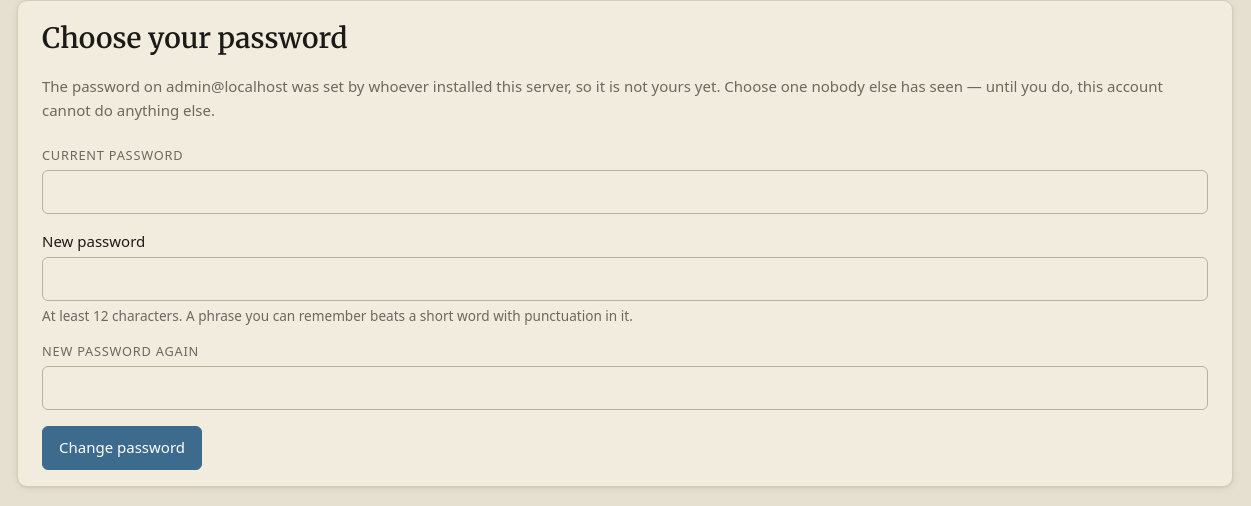
Test: changing it › does not claim to have signed anything out when it did not
This screenshot has width=1251, height=506.
Type "admin" into the password field labelled "Current password".
click(625, 192); type("admin")  # box [42,170,1208,214]
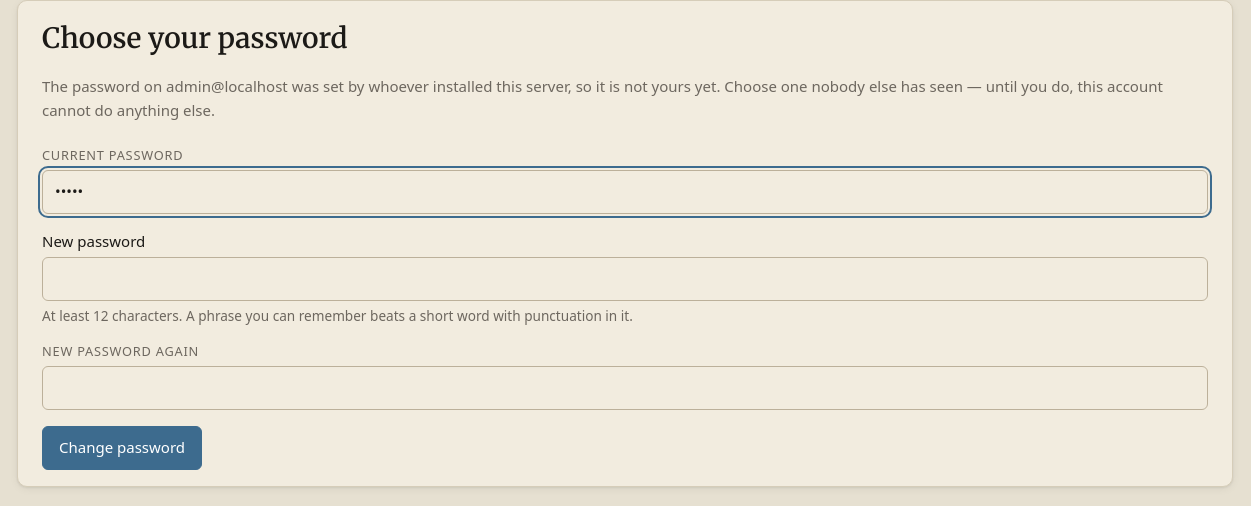
Type "a passphrase nobody else has seen" into the password field labelled "New password".
click(625, 279); type("a passphrase nobody else has seen")  # box [42,257,1208,301]
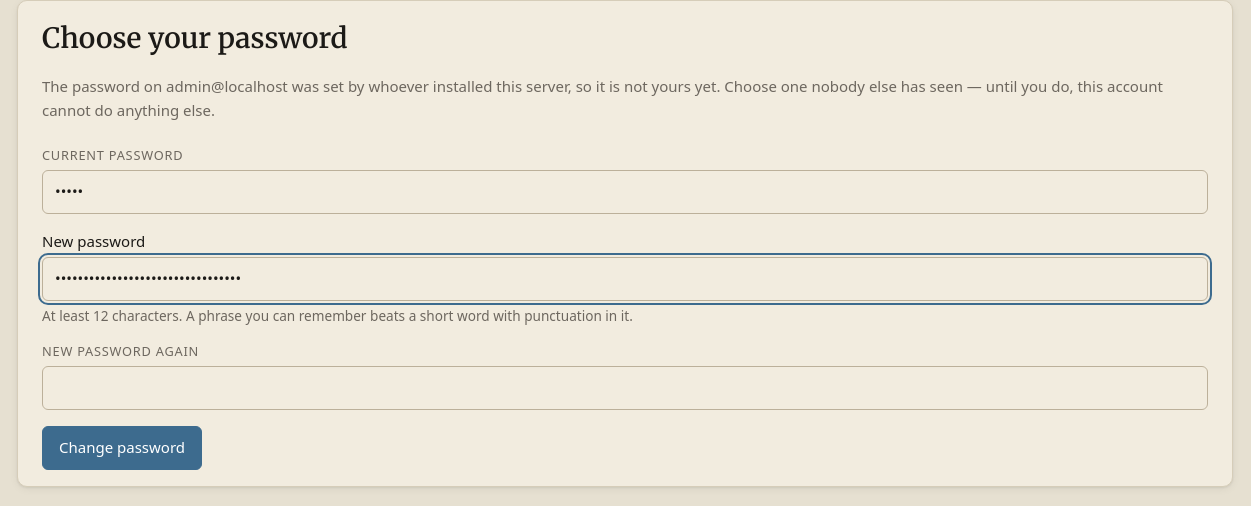
Type "a passphrase nobody else has seen" into the password field labelled "New password again".
click(625, 388); type("a passphrase nobody else has seen")  # box [42,366,1208,410]
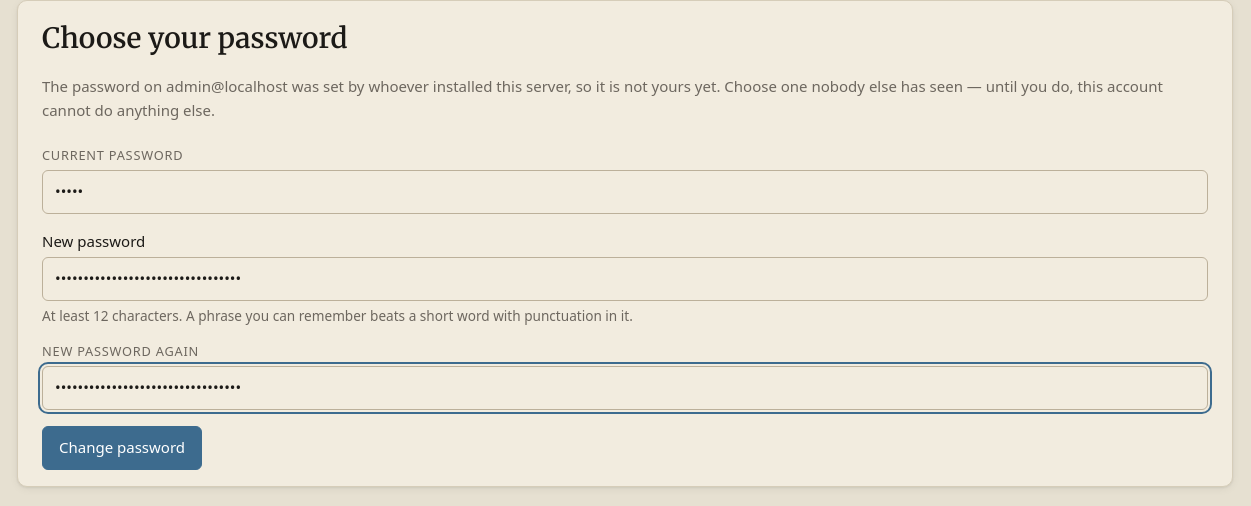
Click the button "Change password".
click(122, 448)  # box [42,426,202,470]
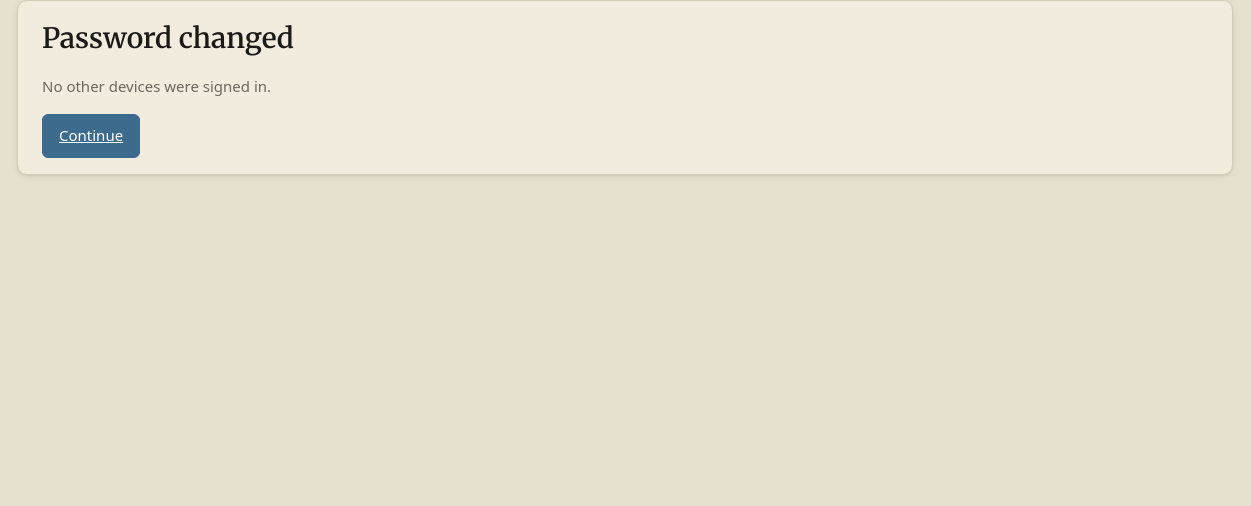
Expected: the text "No other devices were signed in." is shown, [42,76,271,96]
